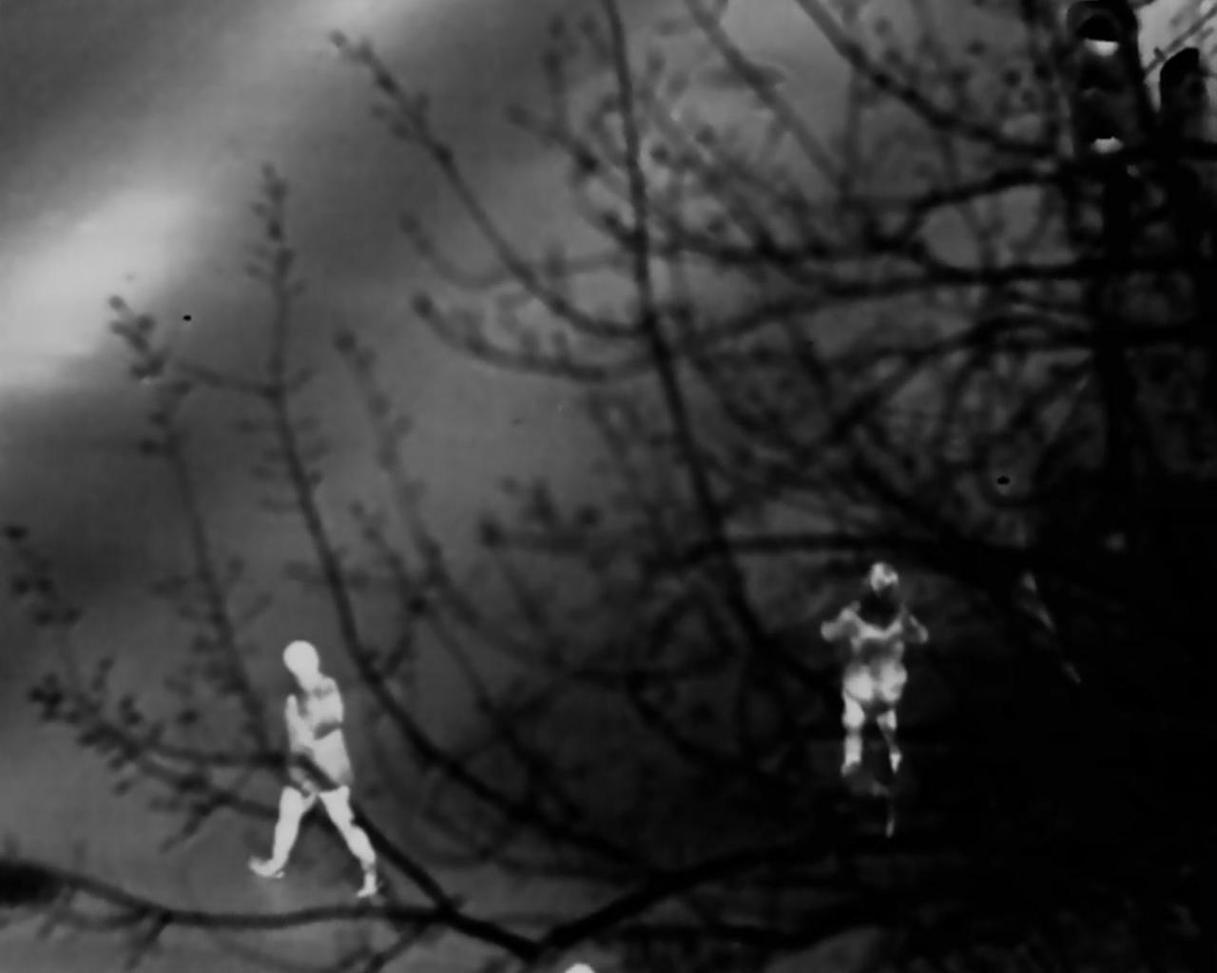person: (263, 642, 374, 910), (822, 560, 918, 819)
